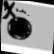not correct: (0, 0, 36, 44)
